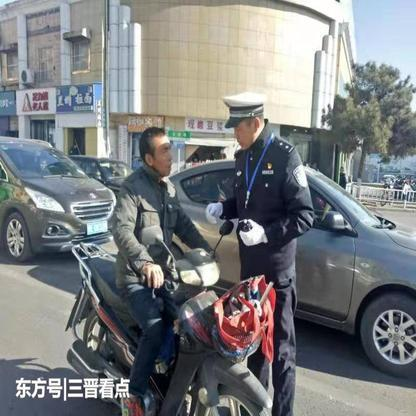target: (68, 126, 274, 413)
